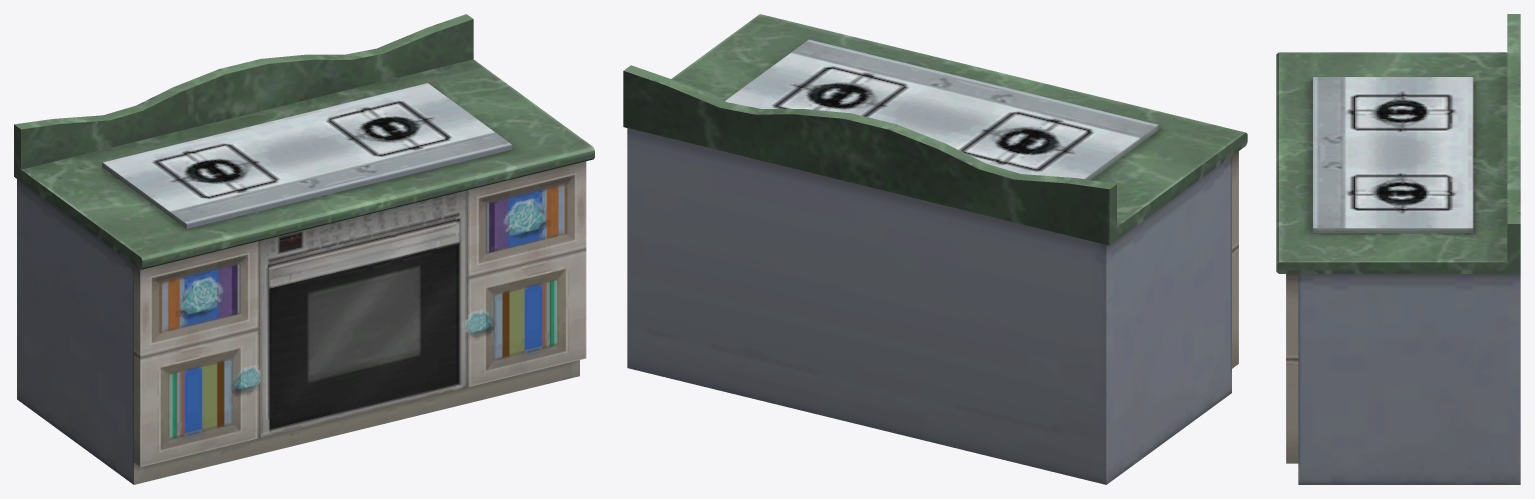
The model's file is furni_0200617_03.FBX.
3 views of the same model, side by side, from view 1: azimuth 30°, elevation 25°; view 2: azimuth 150°, elevation 25°; view 3: azimuth 270°, elevation 25° (orthographic). The views are drawn at different scales.
Parts seen in each view (by area): view 1: furni_0200617_03; view 2: furni_0200617_03; view 3: furni_0200617_03.
Boxes of the visible parts, x1,y1,x2,y2 form: furni_0200617_03: (14,14,594,484); furni_0200617_03: (623,14,1247,484); furni_0200617_03: (1276,14,1520,484).
Size of the model in its own units: 163 by 96.53 by 79.84.
Materials: 1 (1 with a texture image).
